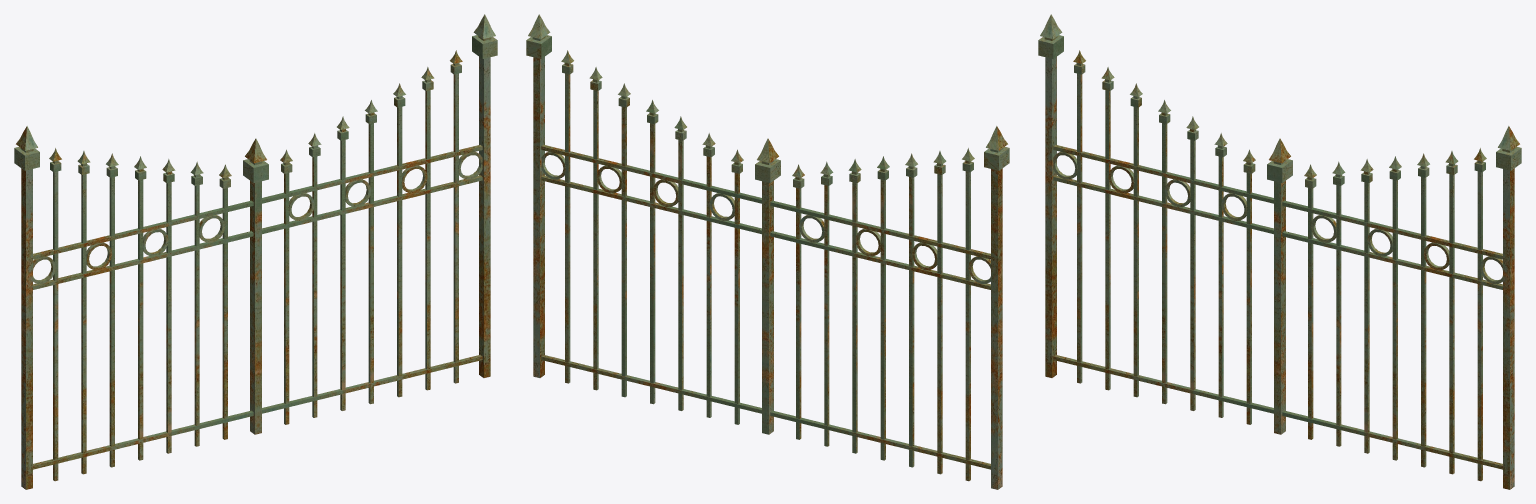
The model's file is wavedFence.fbx.
The picture shows the model from 3 angles, left to right: view 1: azimuth 30°, elevation 25°; view 2: azimuth 150°, elevation 25°; view 3: azimuth 330°, elevation 25°; orthographic projection.
Parts seen in each view (by area): view 1: wavedFence; view 2: wavedFence; view 3: wavedFence.
Part boxes in pixels (x1,y1,x2,y2): wavedFence: (14,14,497,489); wavedFence: (526,14,1009,489); wavedFence: (1038,14,1521,489).
Bounding box in the file's own units: 770 × 563 × 29.86.
1 material, 1 textured.
